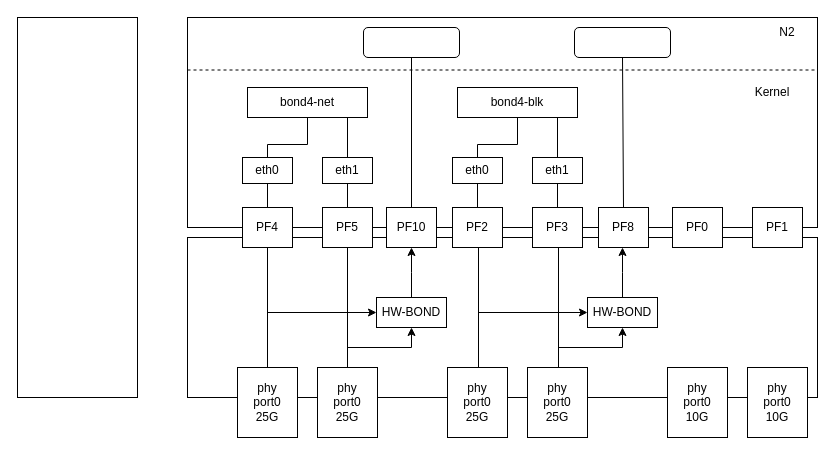
Some shapes in this 836 by 455 pixel diagram are drawn without their labels. The shapes that lost their labels are listed below. From the top down, each one's box as (x1, y1, x2, y2) in pixels, then its label:
(362, 26, 460, 58): 网络
(574, 26, 670, 58): 存储/管理
(16, 16, 138, 398): host
